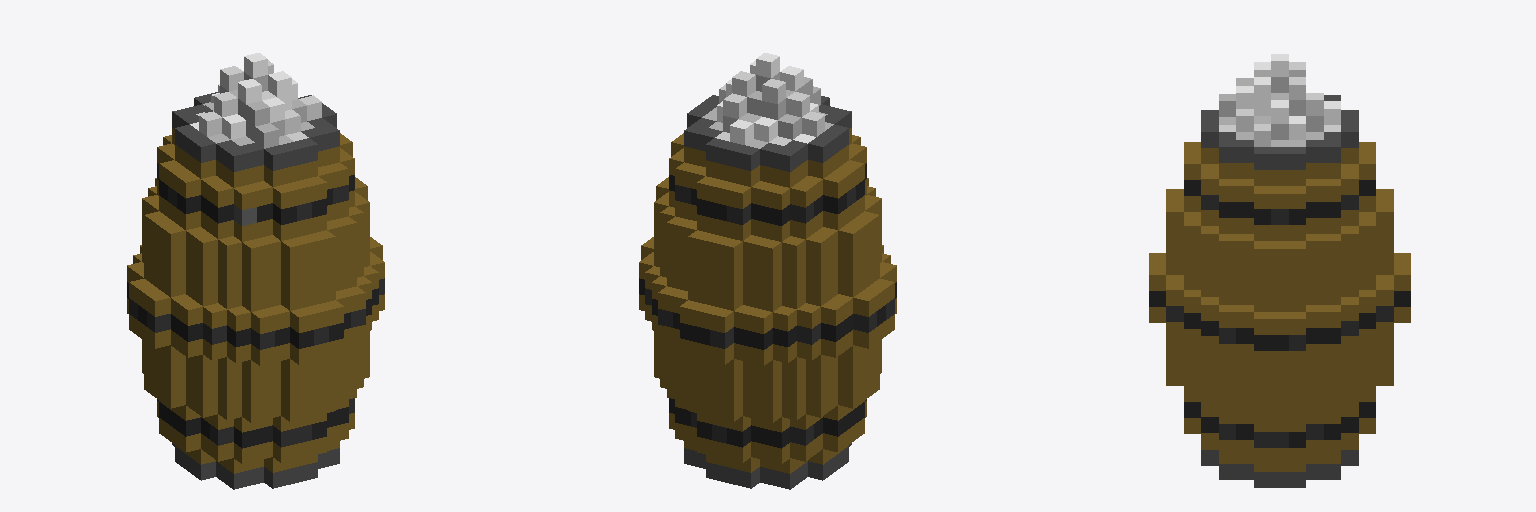
3 renders of one model, left to right at view 1: azimuth 30°, elevation 25°; view 2: azimuth 150°, elevation 25°; view 3: azimuth 270°, elevation 25°, orthographic.
Visible parts, largest first — view 1: object 1; view 2: object 1; view 3: object 1.
Boxes of the visible parts, box(x1,y1,x2,y2) form: object 1: box(127, 53, 384, 489); object 1: box(639, 53, 896, 489); object 1: box(1149, 54, 1410, 487).
Bounding box in the file's own units: 1.5 × 2.5 × 1.5.
1 materials, 1 textured.